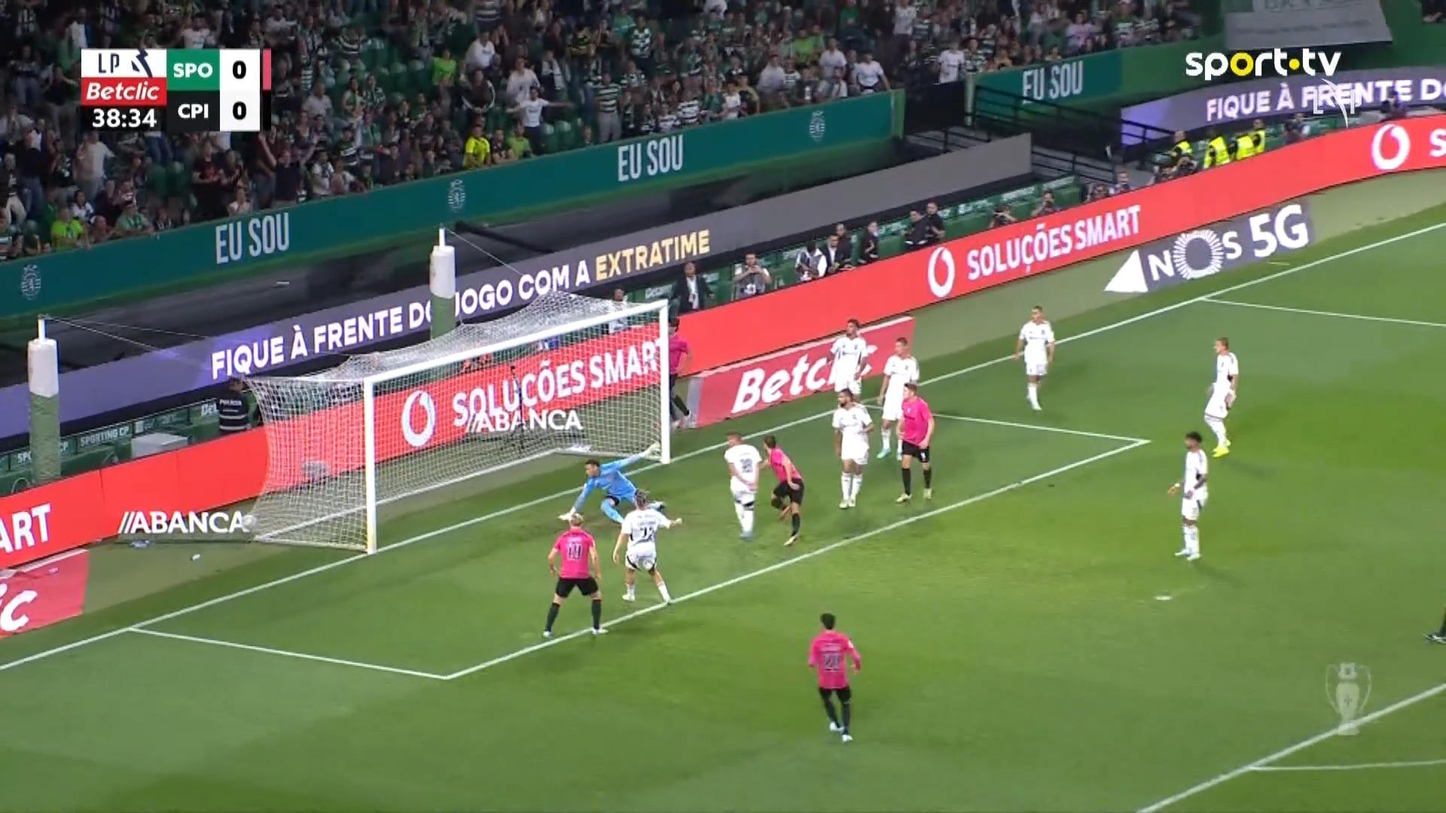ball: (240, 513, 257, 533)
goalkeeper: (557, 440, 662, 525)
player: (541, 510, 609, 638), (612, 489, 682, 605), (807, 611, 862, 742), (875, 336, 920, 459), (1167, 431, 1209, 561), (831, 388, 874, 509), (894, 380, 935, 503), (761, 433, 805, 547), (1202, 336, 1239, 457), (722, 430, 762, 540), (1014, 304, 1055, 411), (827, 318, 870, 408), (667, 315, 691, 431)
